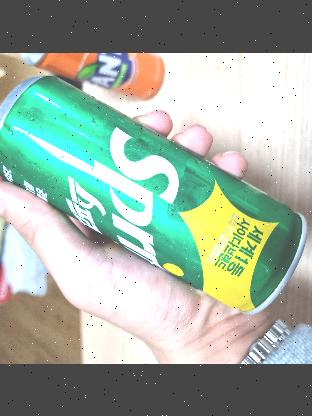Can: (1, 89, 298, 311)
